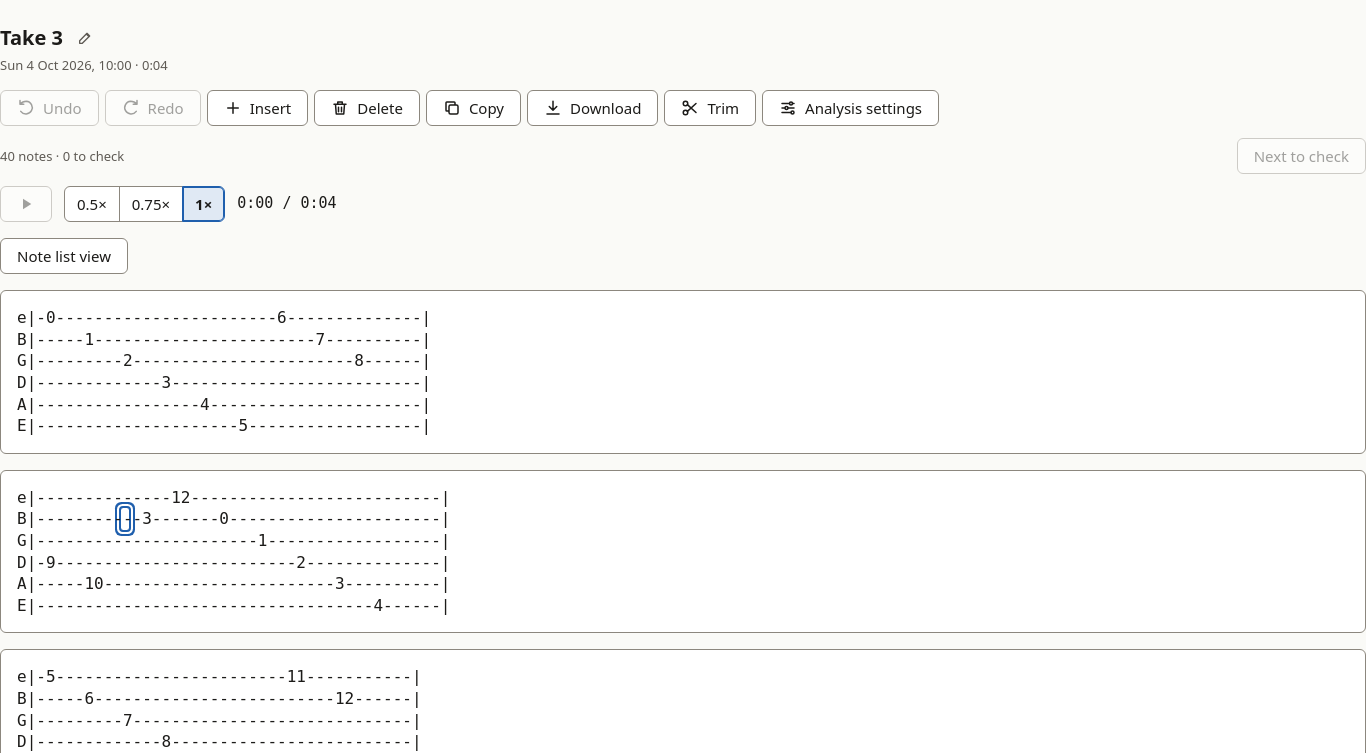
Tab screen tab area, header and selection › the edit popover › a double-click opens a modal "Edit note" dialog with the fret field focused
Double-click the button named "Note 12: B string, fret 3, D4, at 4.25 seconds".
double_click(125, 519)  # box [121,508,129,530]
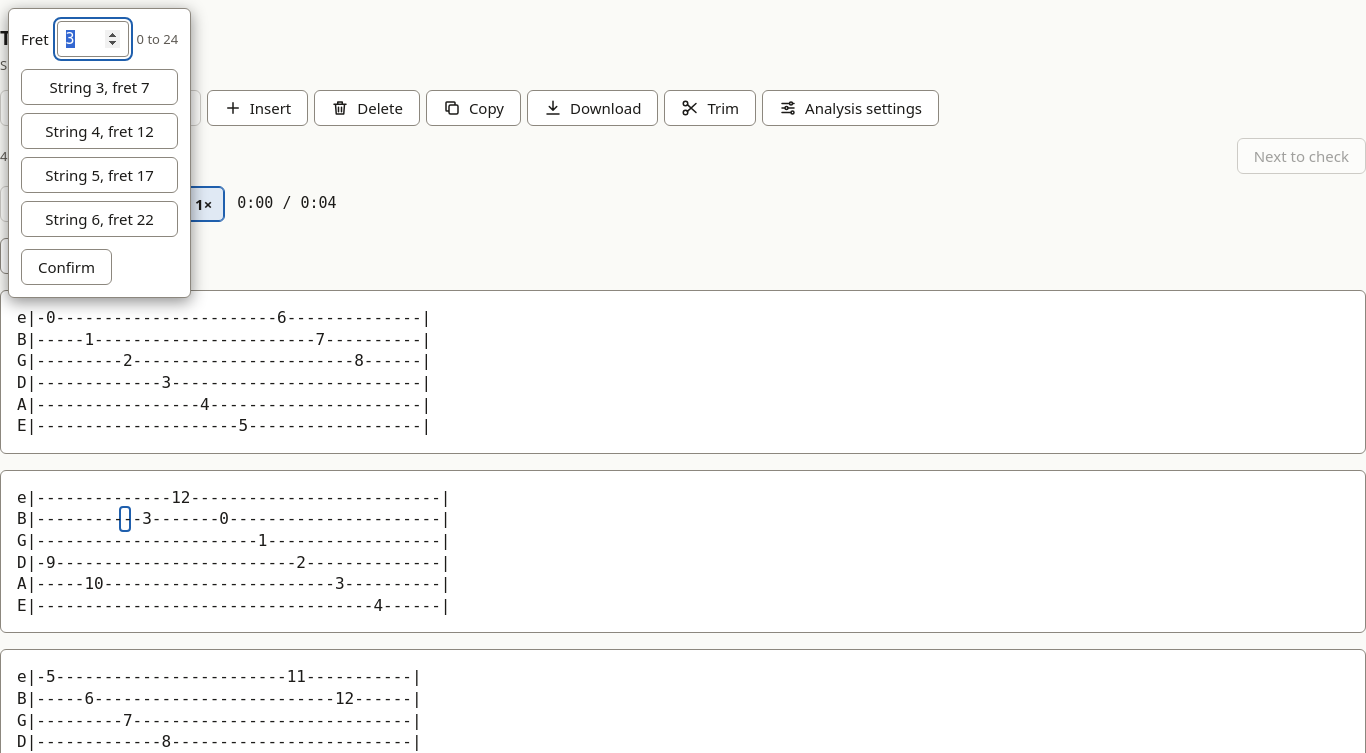
Expected: the number field labelled "Fret" holds "3", [57,21,129,57]
